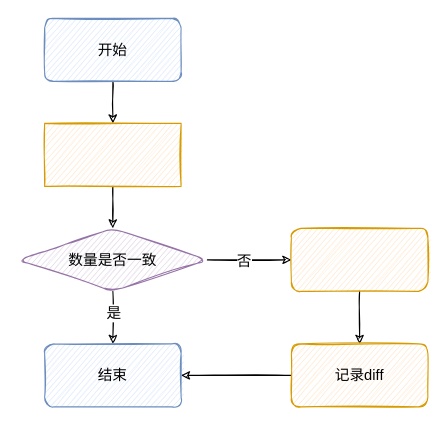
The diagram is 446 pixels wide and 425 high, and some of its shapes have lost their labels. The shapes that lost their labels are listed below. From the top down, each one's centre as x and y in pixels, then its label:
At pixel 112 154: "查询数据量并比较".
At pixel 359 259: "查询数据并比较".
